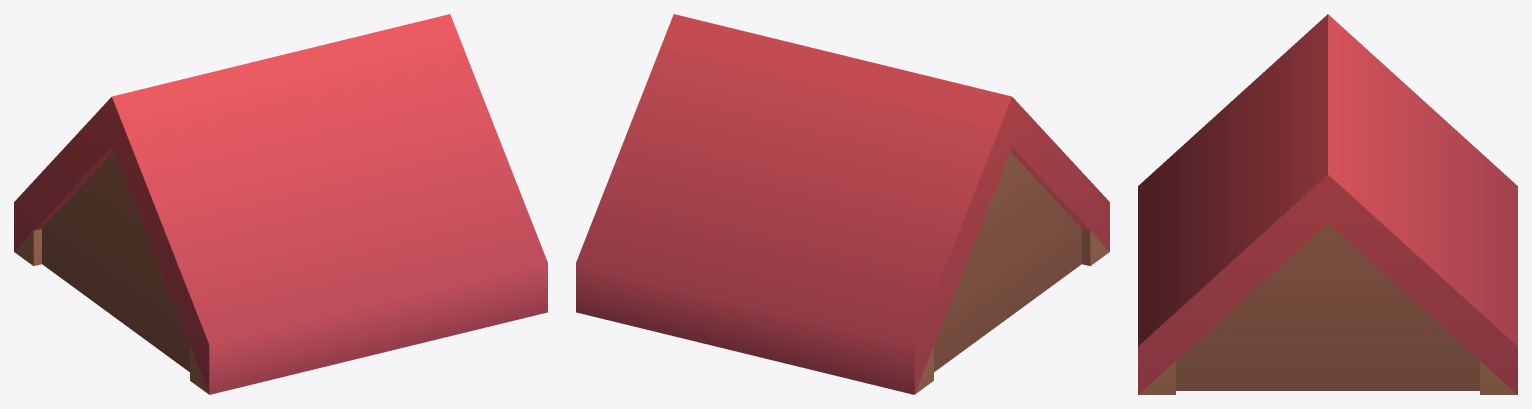
Rendered from roof-high-gable-top.fbx.
The picture shows the model from 3 angles, left to right: view 1: azimuth 30°, elevation 25°; view 2: azimuth 150°, elevation 25°; view 3: azimuth 270°, elevation 25°; orthographic projection. The views are drawn at different scales.
Parts seen in each view (by area): view 1: roof-high-gable-top; view 2: roof-high-gable-top; view 3: roof-high-gable-top.
Boxes of the visible parts, x1,y1,x2,y2 form: roof-high-gable-top: [14, 14, 547, 394]; roof-high-gable-top: [576, 14, 1109, 394]; roof-high-gable-top: [1138, 14, 1517, 394].
Size of the model in its own units: 100 by 64.07 by 100.
1 material, 1 textured.
